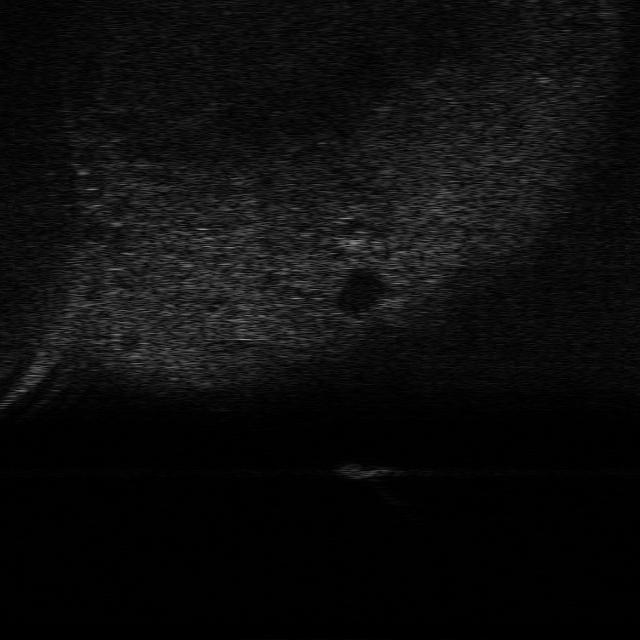cube: (338, 461, 388, 481)
